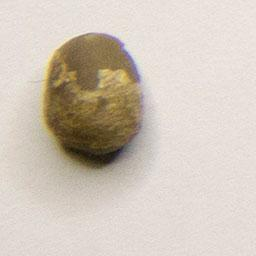peaberry: (38, 28, 145, 159)
